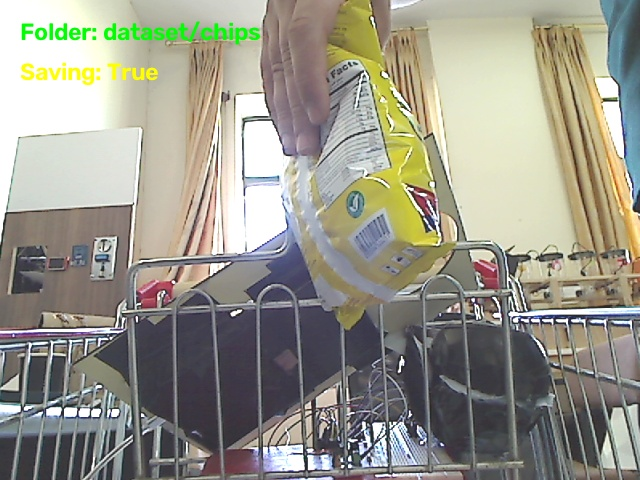chips: (282, 0, 453, 328)
